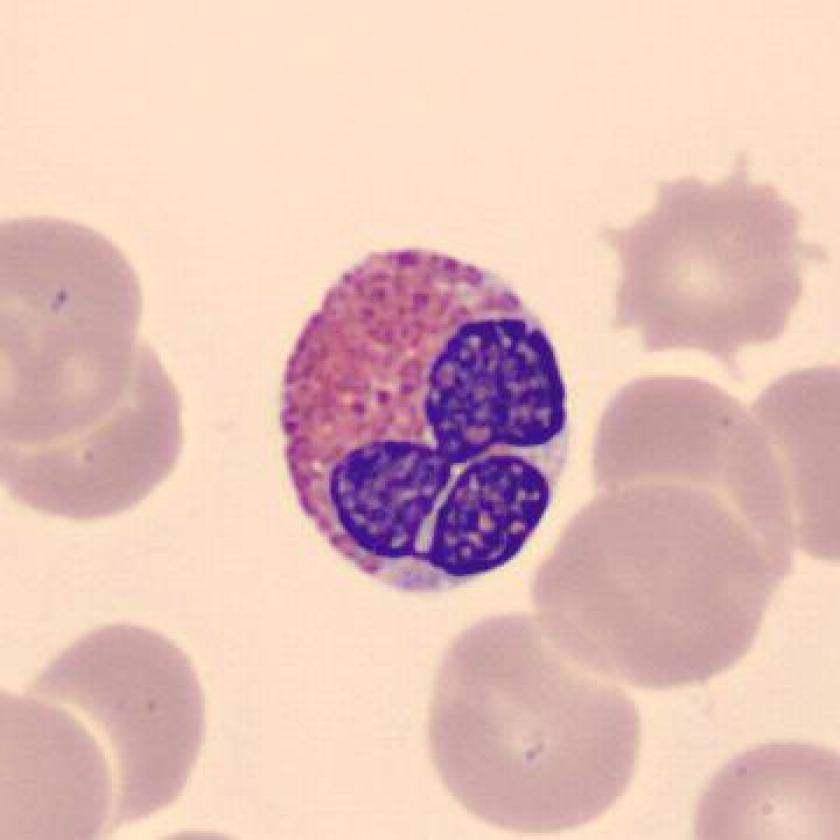eosinophil: (260, 235, 582, 617)
